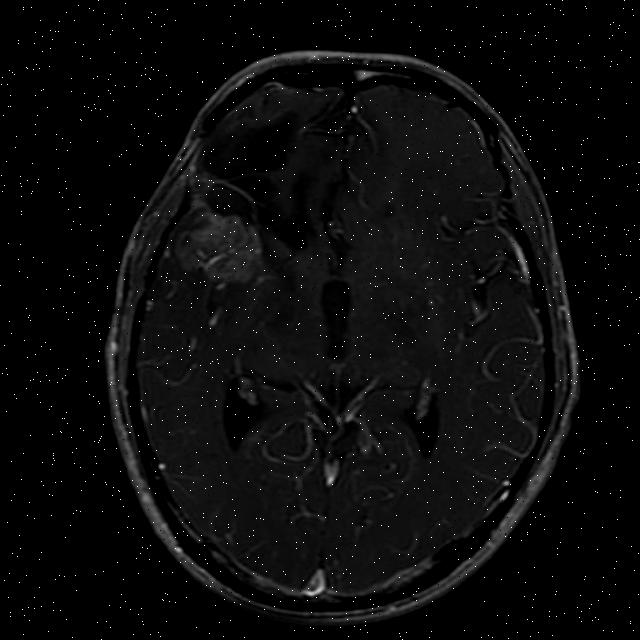Glioma: (169, 205, 266, 290)
